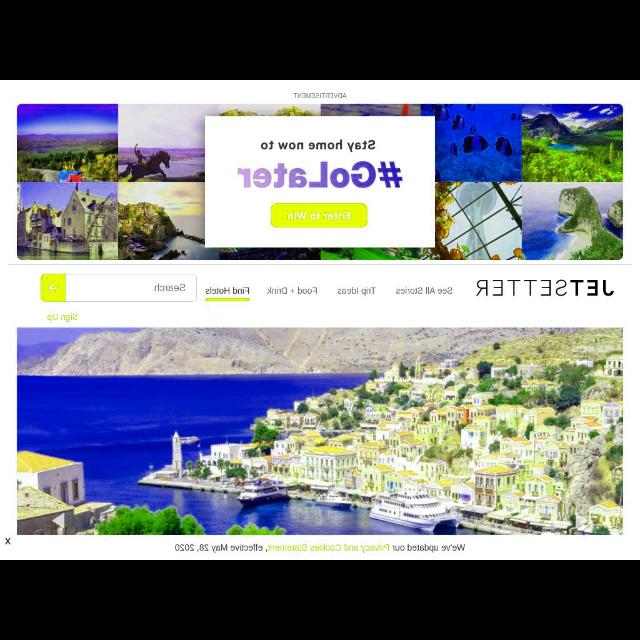backgroundimage: (17, 104, 623, 260)
icon: (51, 513, 64, 529), (49, 284, 59, 292), (5, 538, 11, 546)
image: (18, 327, 622, 535), (476, 280, 612, 296)
input: (42, 274, 196, 302)
text: (236, 139, 404, 189), (174, 544, 466, 552), (288, 212, 350, 220), (204, 286, 250, 296), (396, 287, 452, 295), (294, 92, 346, 100), (46, 313, 78, 323), (338, 287, 376, 295), (267, 288, 317, 294), (153, 284, 185, 292)
textbutton: (272, 203, 366, 227)
toolbar: (0, 264, 638, 326)
